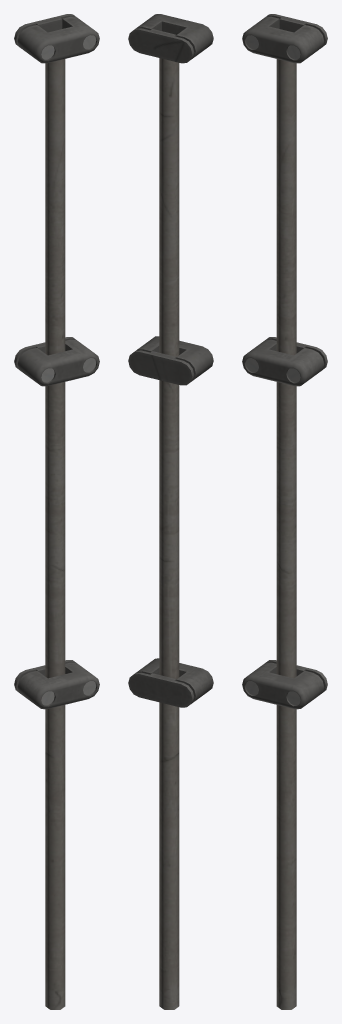
File: cable_run.glb
3 renders of one model, left to right at view 1: azimuth 30°, elevation 25°; view 2: azimuth 150°, elevation 25°; view 3: azimuth 330°, elevation 25°, orthographic.
Visible parts, largest first — view 1: cable_straight_long; view 2: cable_straight_long; view 3: cable_straight_long.
Boxes of the visible parts, <box> form: cable_straight_long: <box>14,14,99,1009</box>; cable_straight_long: <box>128,14,213,1009</box>; cable_straight_long: <box>242,14,327,1009</box>.
Size of the model in its own units: 0.0686 by 1 by 0.0427.
Materials: 1 (1 with a texture image).
